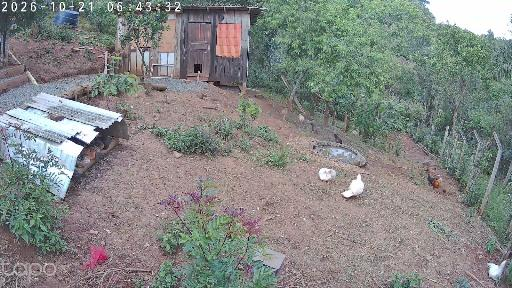frango: (297, 113, 304, 126)
galinha: (333, 133, 345, 144), (311, 122, 319, 135), (281, 107, 288, 121), (443, 186, 453, 195), (427, 173, 435, 184)
galo: (431, 178, 441, 191)
pato: (341, 173, 365, 197), (319, 167, 336, 184)
